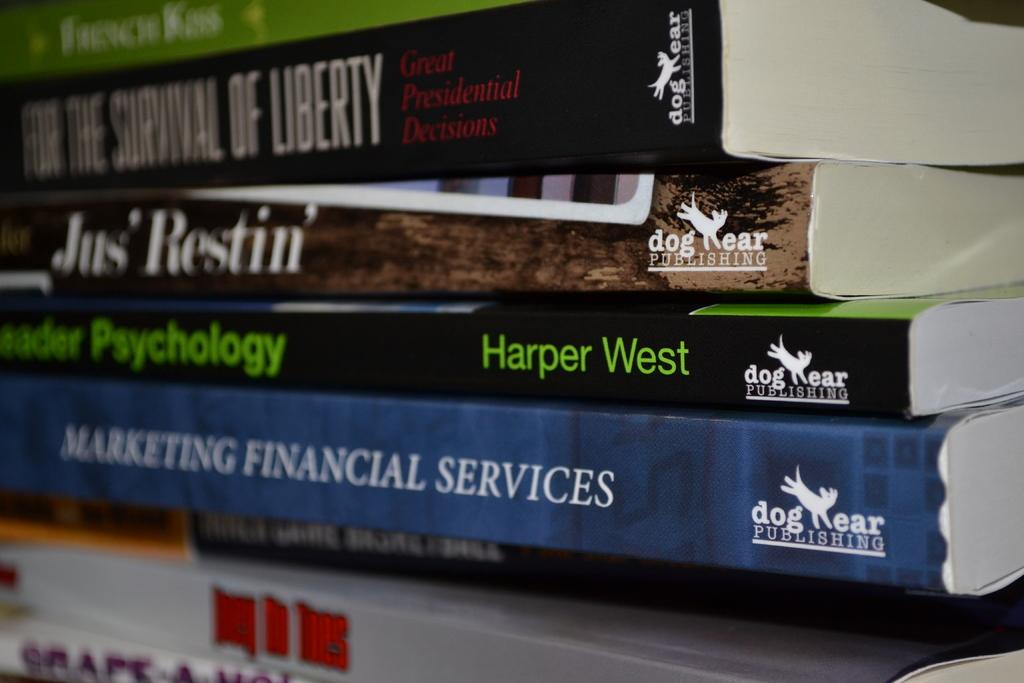Book: (5, 390, 1023, 606), (4, 0, 1023, 199), (0, 530, 1023, 682), (0, 157, 1023, 304), (0, 487, 1018, 629), (0, 281, 1023, 406), (1, 0, 529, 74), (0, 614, 353, 682)
